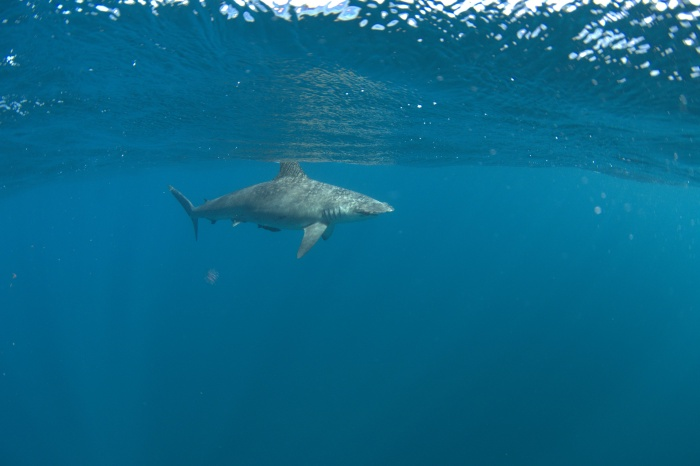Hammer: (156, 149, 396, 281)
